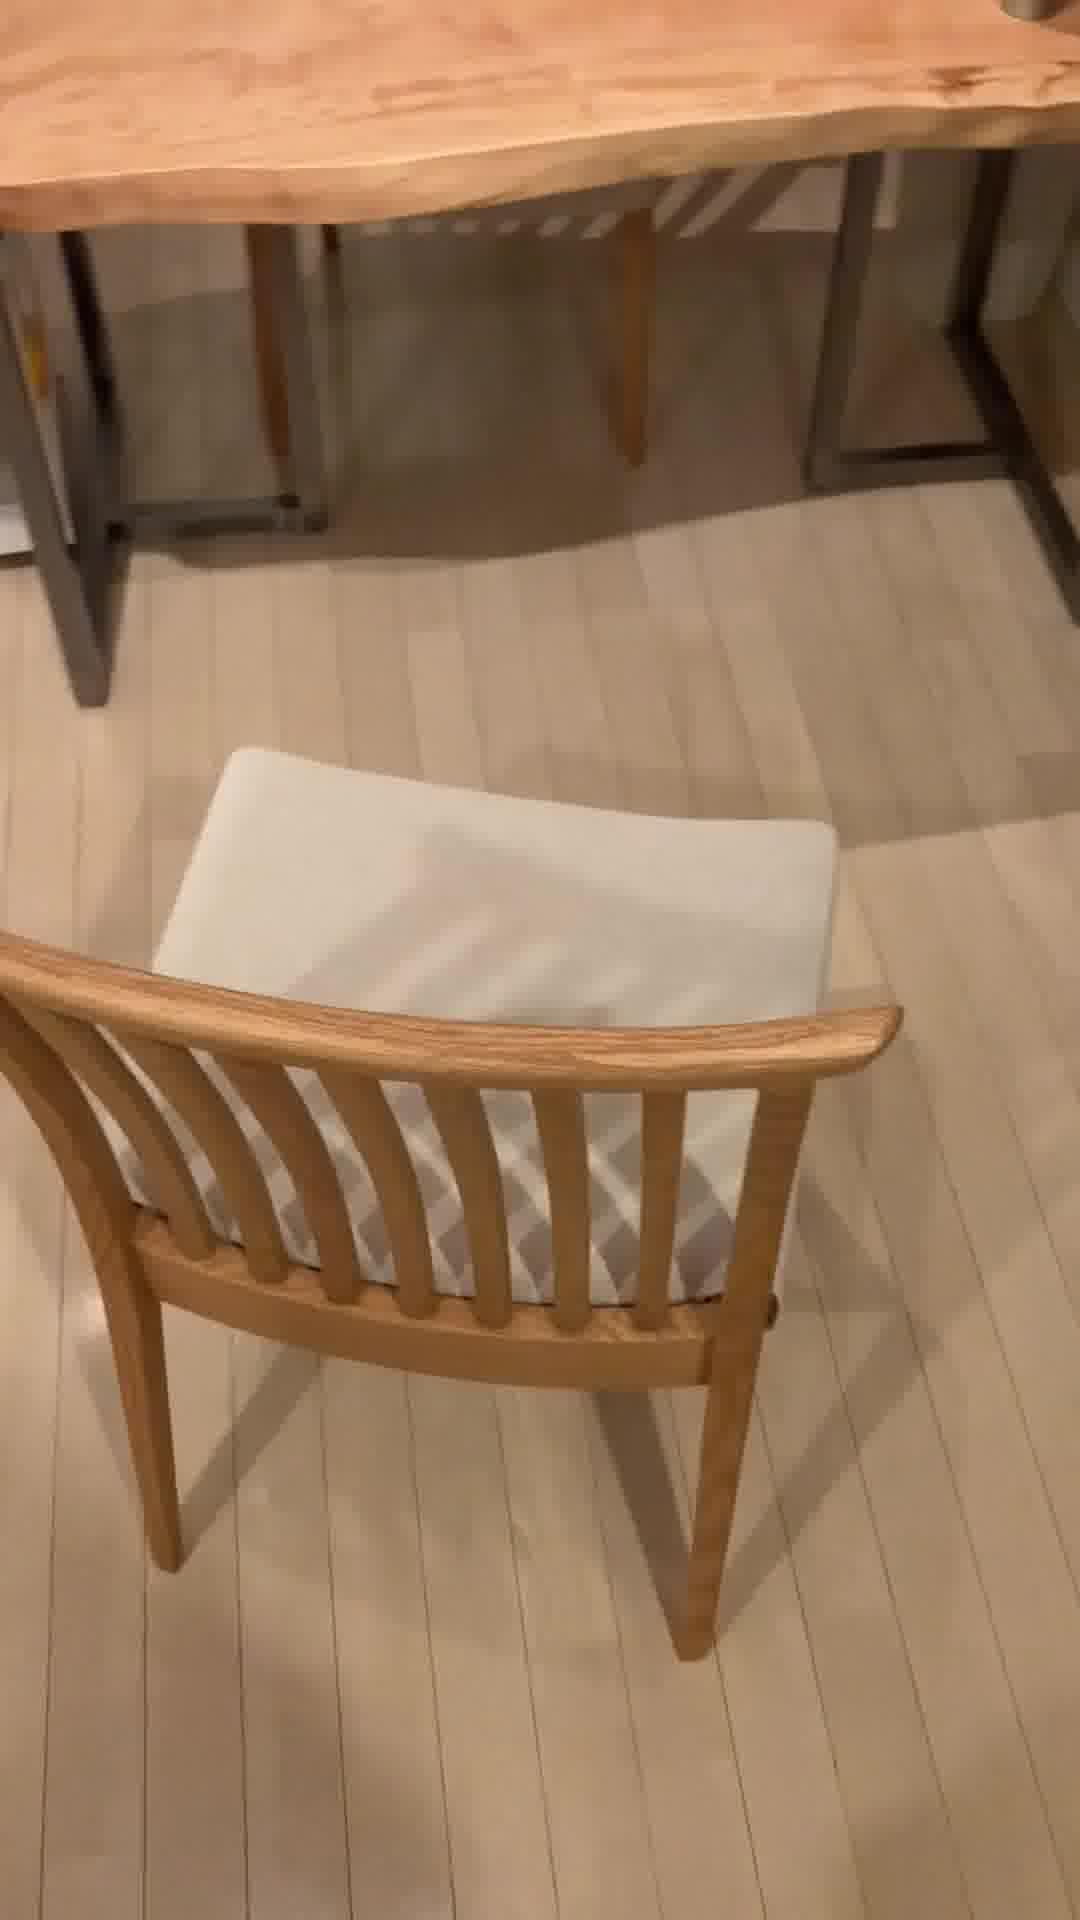takumikan-chair: (0, 740, 902, 1667)
